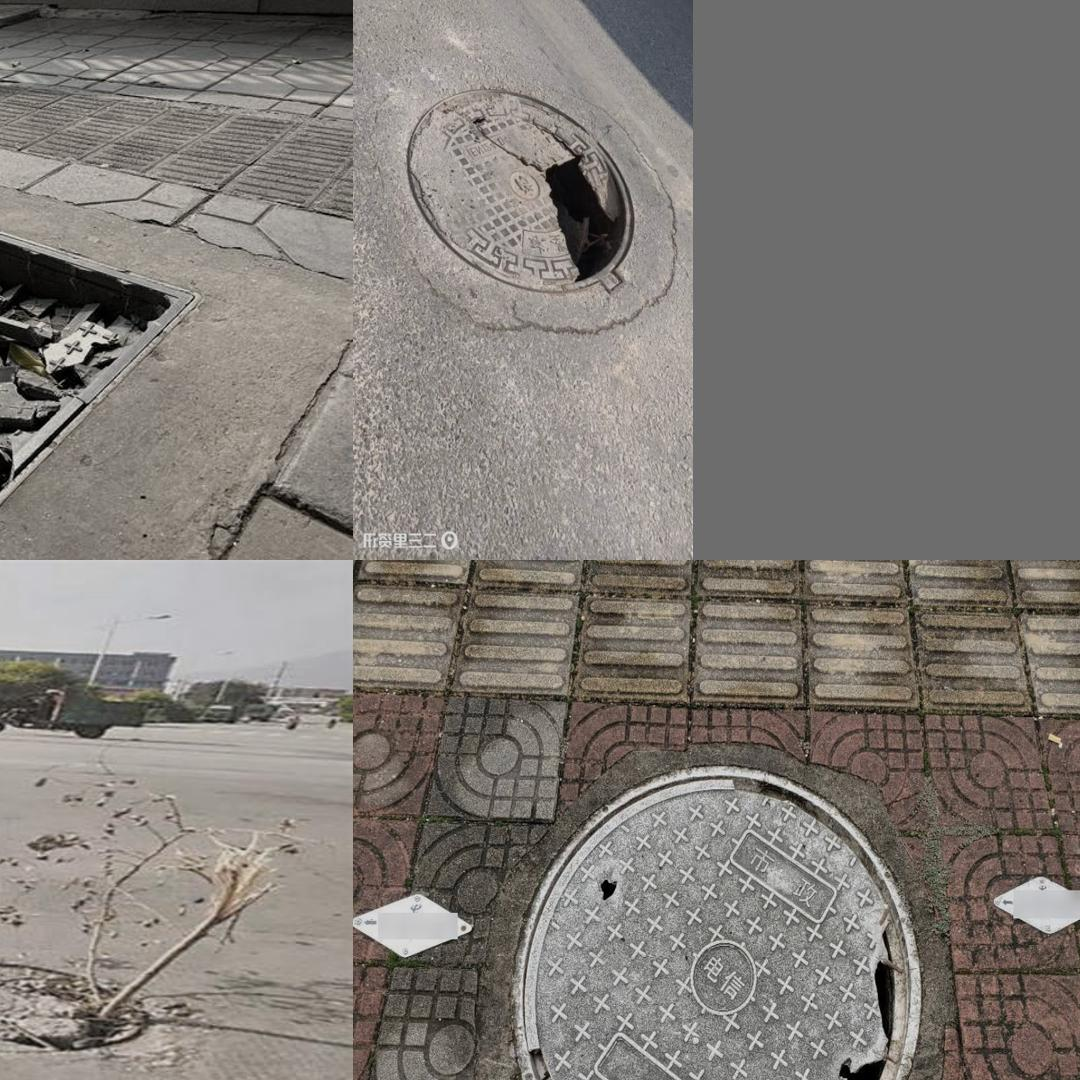broke: (509, 766, 922, 1080), (0, 175, 335, 552), (379, 74, 674, 352), (0, 936, 188, 1079)
